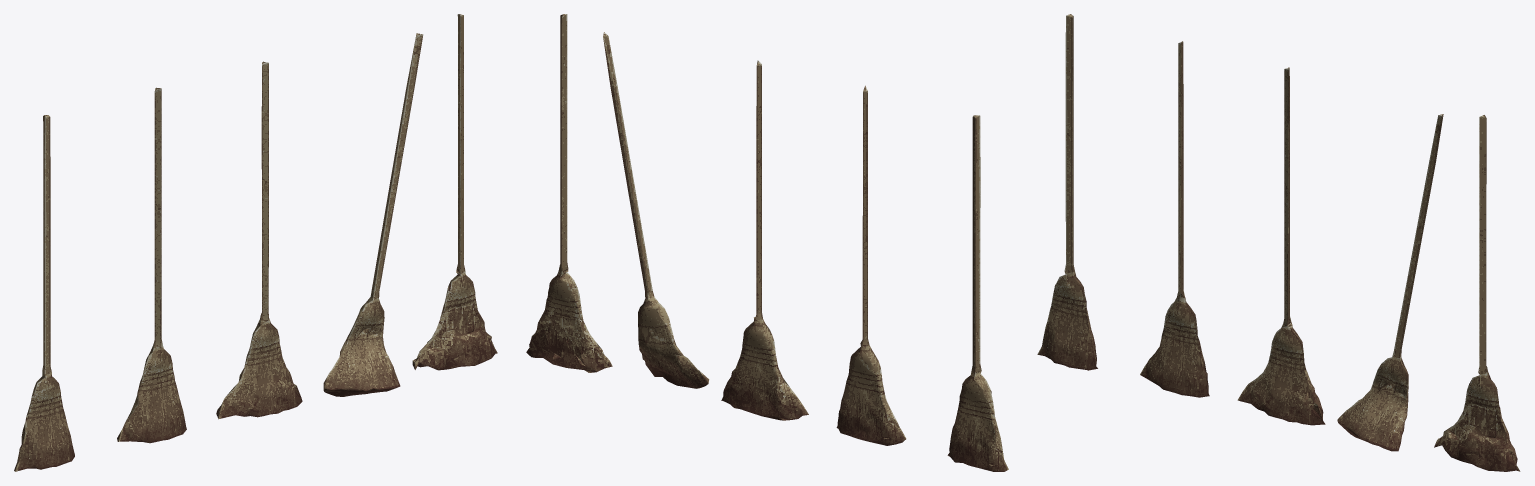
File: brooms_bin.glb
The picture shows the model from 3 angles, left to right: view 1: azimuth 30°, elevation 25°; view 2: azimuth 150°, elevation 25°; view 3: azimuth 330°, elevation 25°; orthographic projection.
Parts seen in each view (by area): view 1: mesh; view 2: mesh; view 3: mesh.
Part boxes in pixels (left/top/right/bottom): mesh: left=14, top=14, right=497, bottom=471; mesh: left=526, top=14, right=1008, bottom=471; mesh: left=1037, top=14, right=1520, bottom=471.
Bounding box in the file's own units: 1.73 × 1.2 × 0.1376.
Materials: 1 (1 with a texture image).
